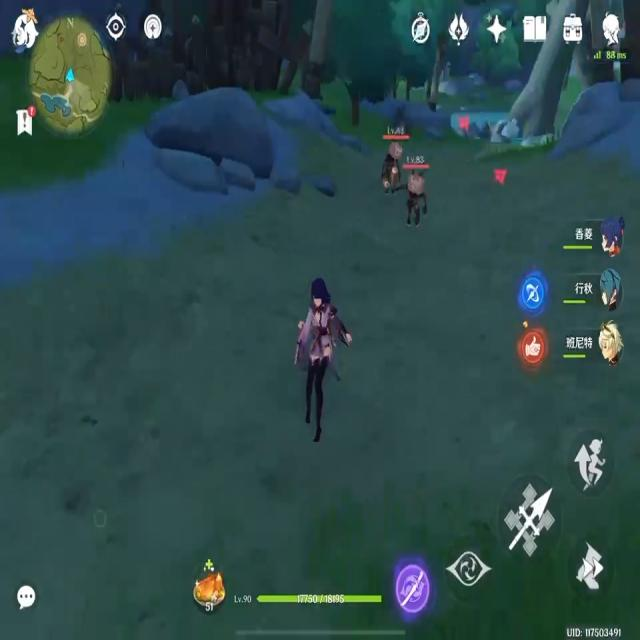genshin-hilichurls: (410, 167, 426, 226), (388, 138, 403, 196)
